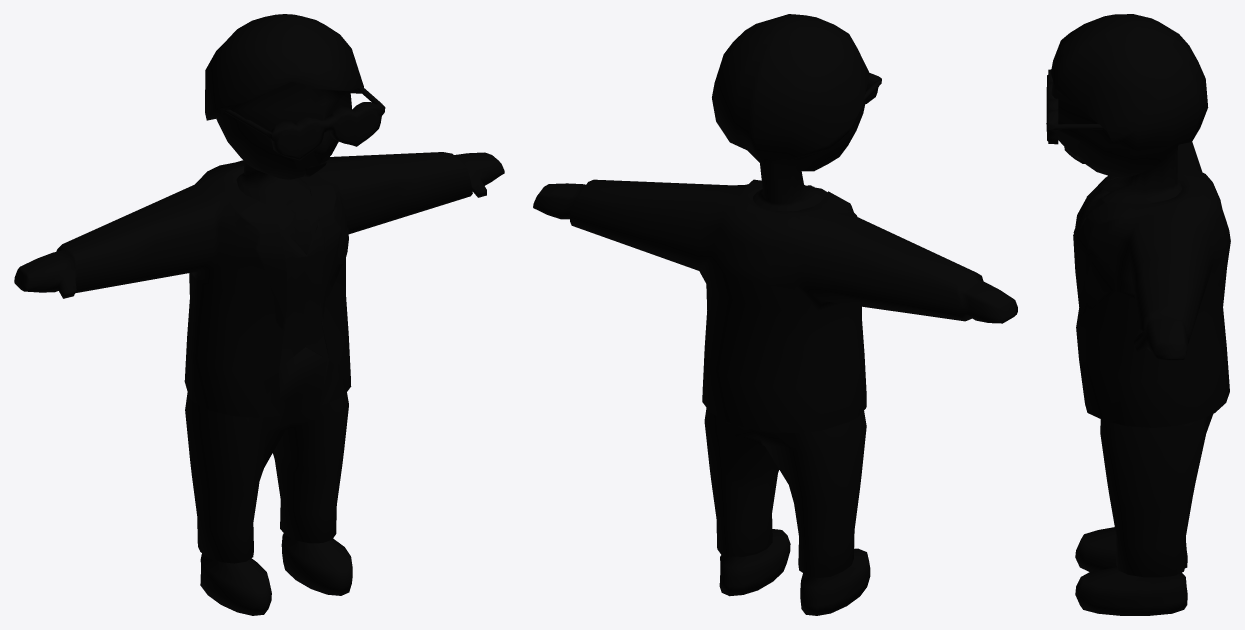
File: pats_reUVREX.fbx
3 renders of one model, left to right at view 1: azimuth 30°, elevation 25°; view 2: azimuth 150°, elevation 25°; view 3: azimuth 270°, elevation 25°, orthographic.
Parts seen in each view (by area): view 1: REx; view 2: REx; view 3: REx, Mouth.
Part boxes in pixels (left/top/right/bottom): REx: left=14, top=14, right=504, bottom=615; REx: left=533, top=14, right=1017, bottom=615; REx: left=1046, top=14, right=1230, bottom=615; Mouth: left=1058, top=130, right=1080, bottom=156.
Bounding box in the file's own units: 786 × 888 × 262.
